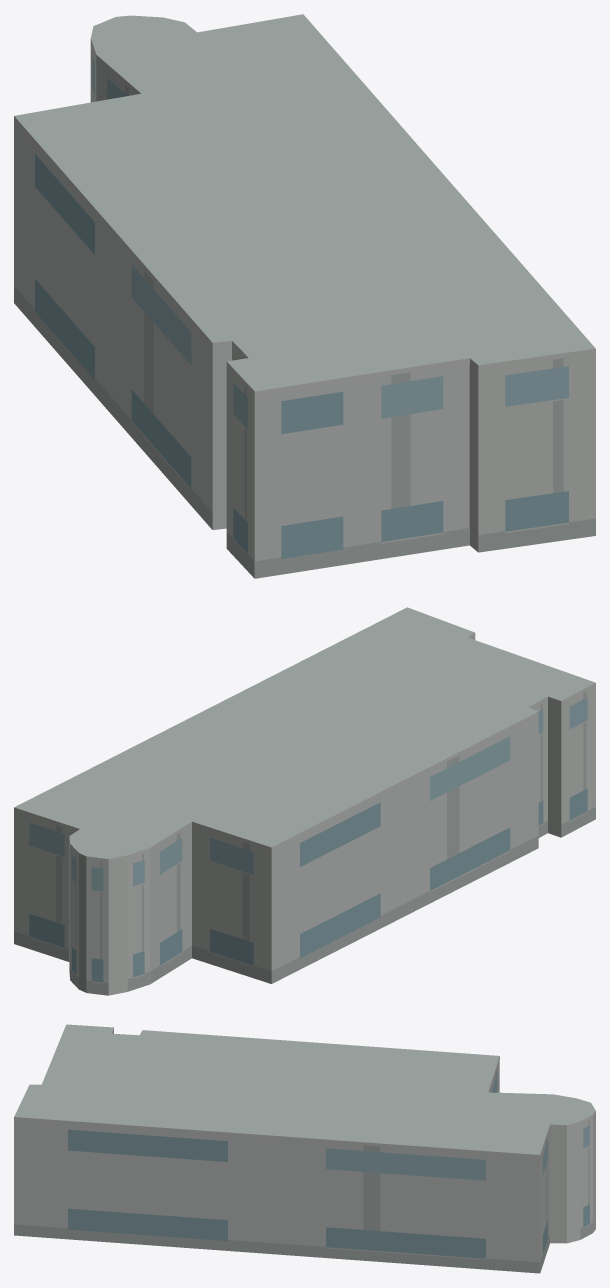
File: survey-upis-32631828.glb
3 renders of one model, top to bottom at view 1: azimuth 30°, elevation 25°; view 2: azimuth 150°, elevation 25°; view 3: azimuth 270°, elevation 25°, orthographic. The views are drawn at different scales.
Visible parts, largest first — view 1: survey-upis-32631828.tmp; view 2: survey-upis-32631828.tmp; view 3: survey-upis-32631828.tmp.
Boxes of the visible parts, x1,y1,x2,y2 form: survey-upis-32631828.tmp: [14, 14, 595, 578]; survey-upis-32631828.tmp: [14, 607, 595, 995]; survey-upis-32631828.tmp: [14, 1024, 595, 1273].
Bounding box in the file's own units: 21.64 × 9.15 × 40.74.
